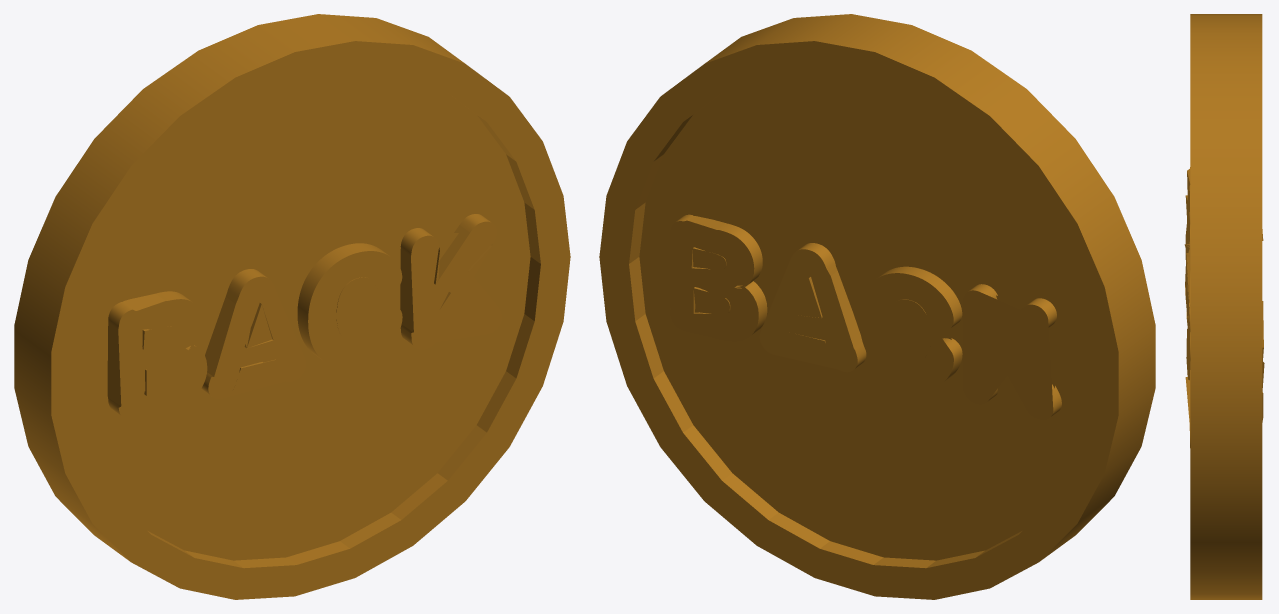
The model's file is coin_back_RE.FBX.
3 views of the same model, side by side, from view 1: azimuth 30°, elevation 25°; view 2: azimuth 150°, elevation 25°; view 3: azimuth 270°, elevation 25° (orthographic). The views are drawn at different scales.
Visible parts, largest first — view 1: Cylinder001; view 2: Cylinder001; view 3: Cylinder001.
Boxes of the visible parts, box(x1,y1,x2,y2) form: Cylinder001: box(14, 14, 570, 599); Cylinder001: box(599, 14, 1155, 599); Cylinder001: box(1184, 14, 1264, 599).
Size of the model in its own units: 63.1 by 63.21 by 8.63.
